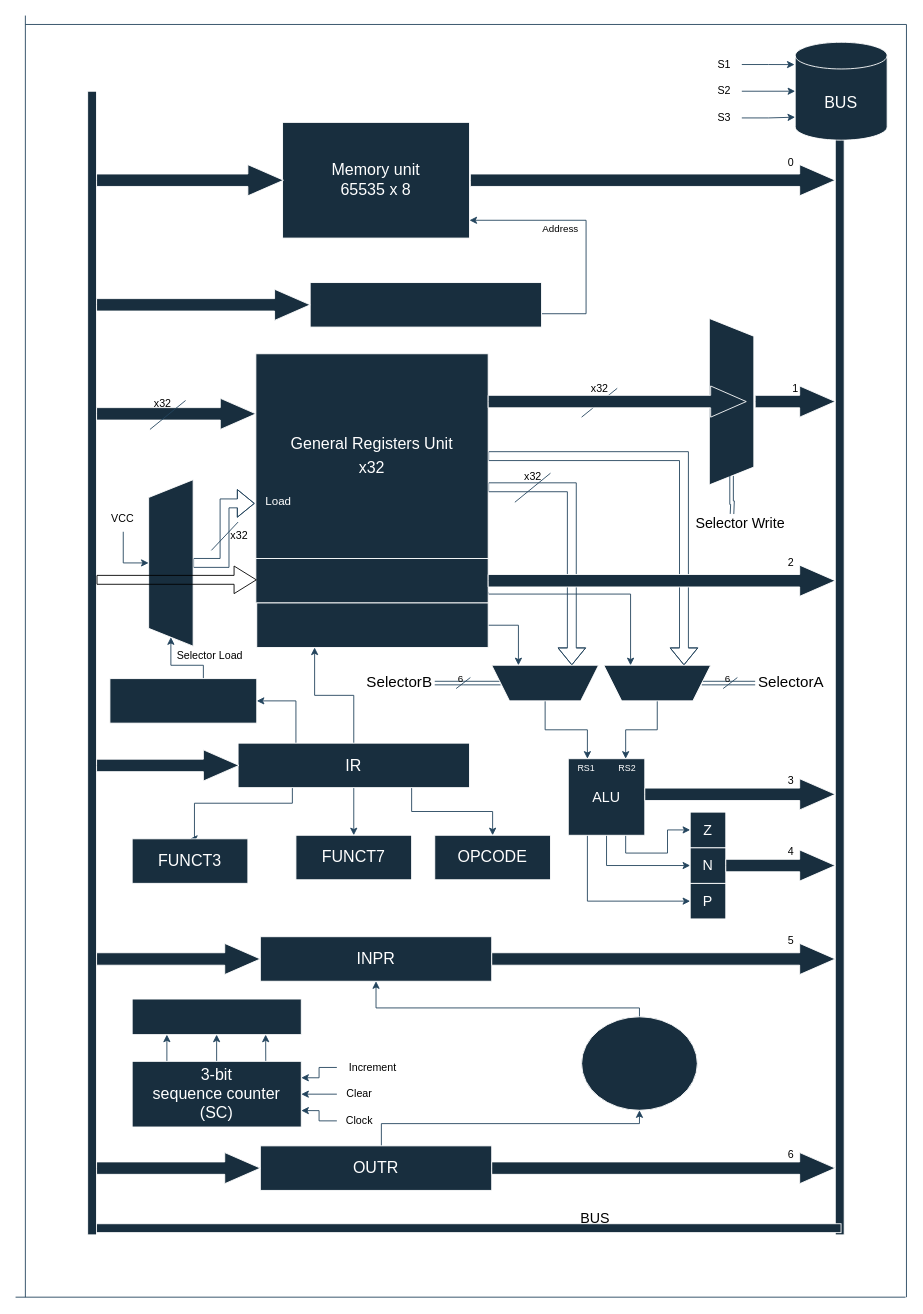
This 923x1314 diagram has some shape labels left out. The shapes that lost their labels are listed below. From the top down, each one's centre as x and y in pixels, then its label:
(425,304): MAR
(371,580): PC
(372,624): IMM
(183,700): GAR
(216,1016): decoder 3x8
(639,1063): Interface Circuit
